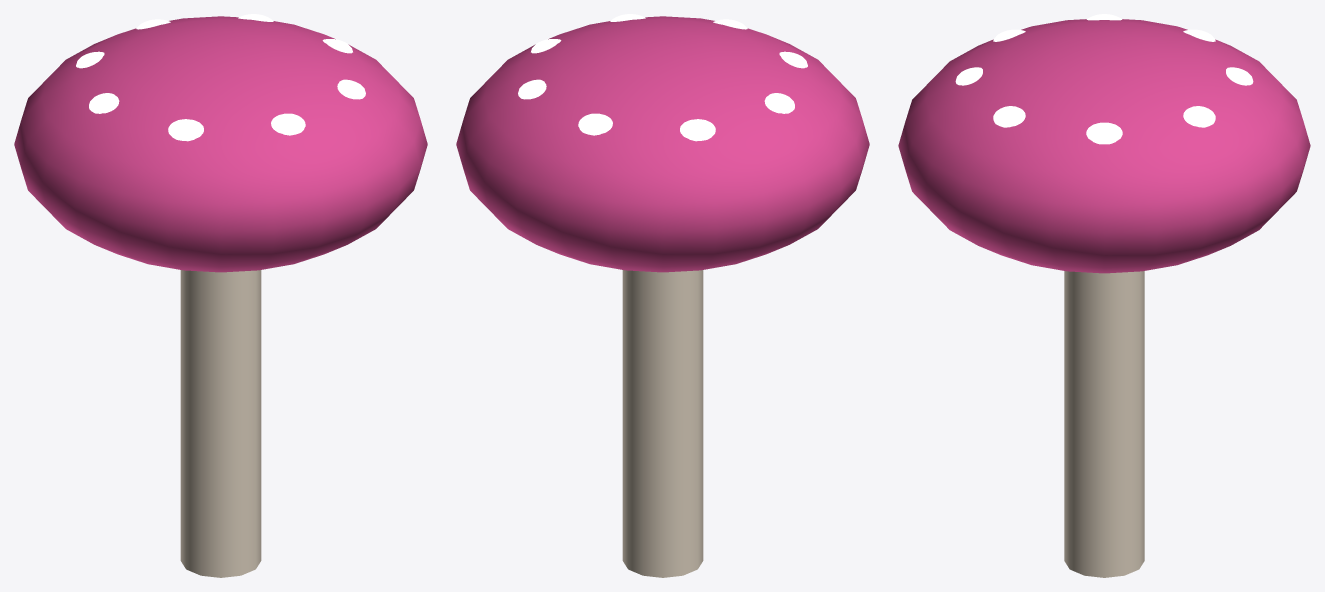
The model's file is flora_mushroom.glb.
The picture shows the model from 3 angles, left to right: view 1: azimuth 30°, elevation 25°; view 2: azimuth 150°, elevation 25°; view 3: azimuth 270°, elevation 25°; orthographic projection.
Parts seen in each view (by area): view 1: Cap, Stem, Spot5, Spot6; view 2: Cap, Stem, Spot3, Spot2; view 3: Cap, Stem, Spot0, Spot1, Spot7.
Boxes of the visible parts, left/top/right/bottom form: Cap: left=14, top=16, right=427, bottom=272; Stem: left=180, top=270, right=261, bottom=577; Spot5: left=168, top=119, right=203, bottom=141; Spot6: left=271, top=113, right=305, bottom=135; Cap: left=456, top=16, right=869, bottom=272; Stem: left=622, top=270, right=703, bottom=577; Spot3: left=680, top=119, right=715, bottom=141; Spot2: left=578, top=113, right=612, bottom=135; Cap: left=898, top=19, right=1310, bottom=273; Stem: left=1064, top=271, right=1144, bottom=577; Spot0: left=1086, top=122, right=1122, bottom=144; Spot1: left=1183, top=106, right=1215, bottom=127; Spot7: left=993, top=106, right=1025, bottom=127.
Bounding box in the file's own units: 3.6 × 4.9 × 3.6.
